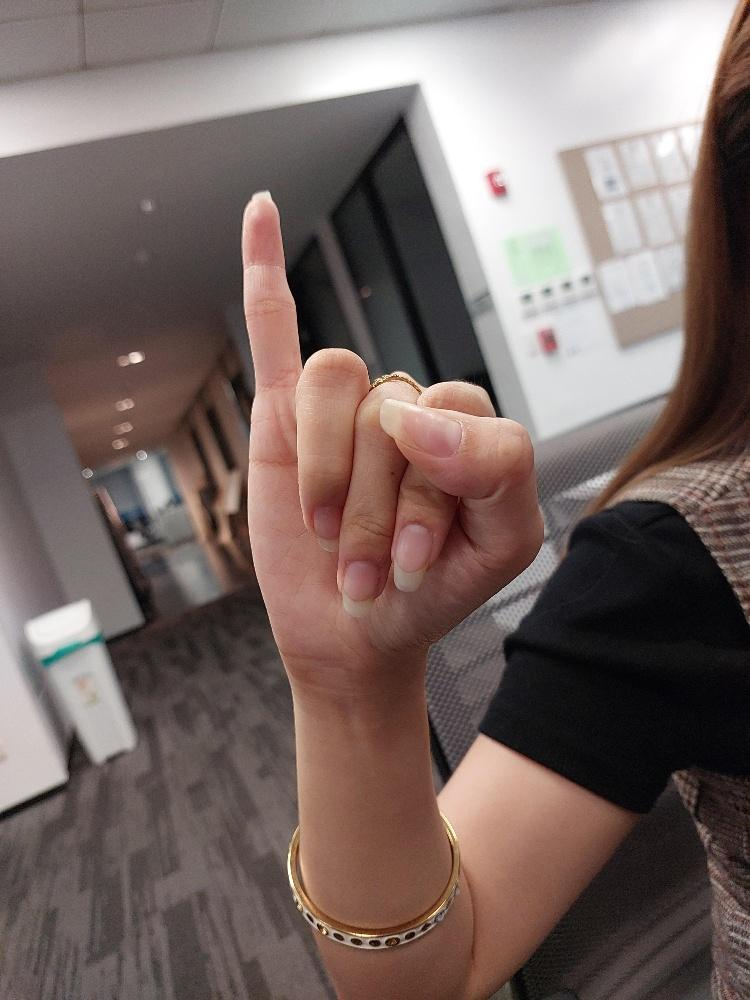i: (236, 186, 548, 700)
